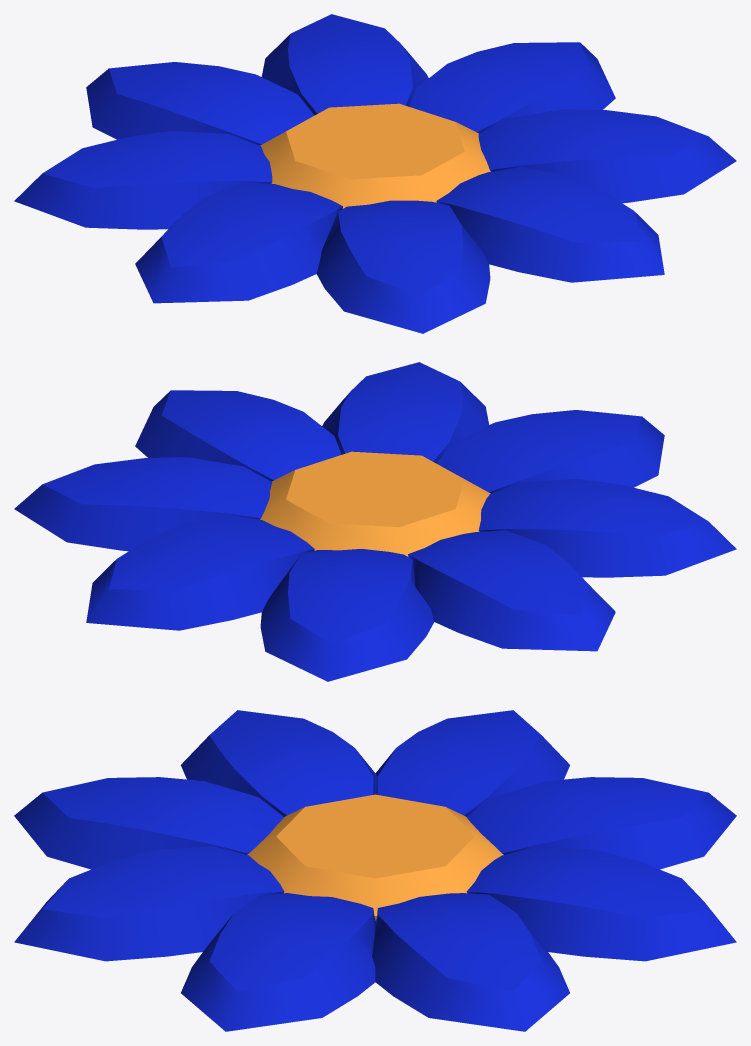
The model's file is Flower_1_B.fbx.
The picture shows the model from 3 angles, top to bottom: view 1: azimuth 30°, elevation 25°; view 2: azimuth 150°, elevation 25°; view 3: azimuth 270°, elevation 25°; orthographic projection. The views are drawn at different scales.
Parts seen in each view (by area): view 1: Flower_1_B; view 2: Flower_1_B; view 3: Flower_1_B.
Boxes of the visible parts, bbox=[...] form: Flower_1_B: bbox=[14, 14, 736, 333]; Flower_1_B: bbox=[14, 362, 736, 681]; Flower_1_B: bbox=[14, 710, 736, 1031].
Size of the model in its own units: 33.7 by 2.43 by 33.7.
